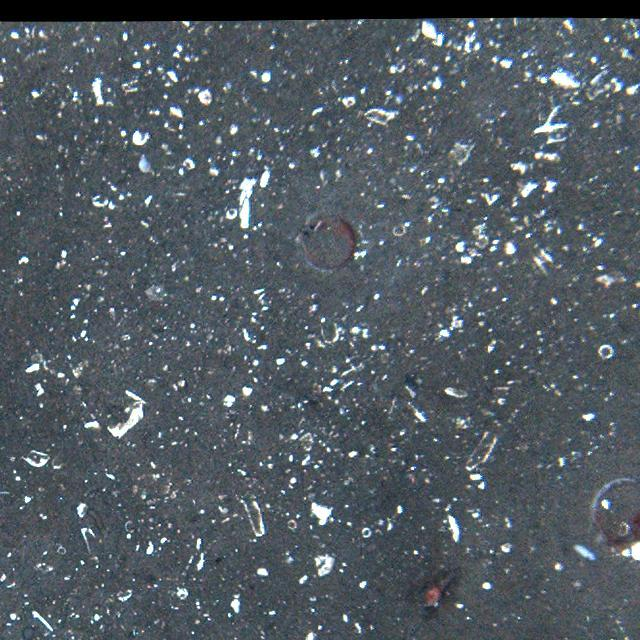scallop: (296, 216, 358, 271)
